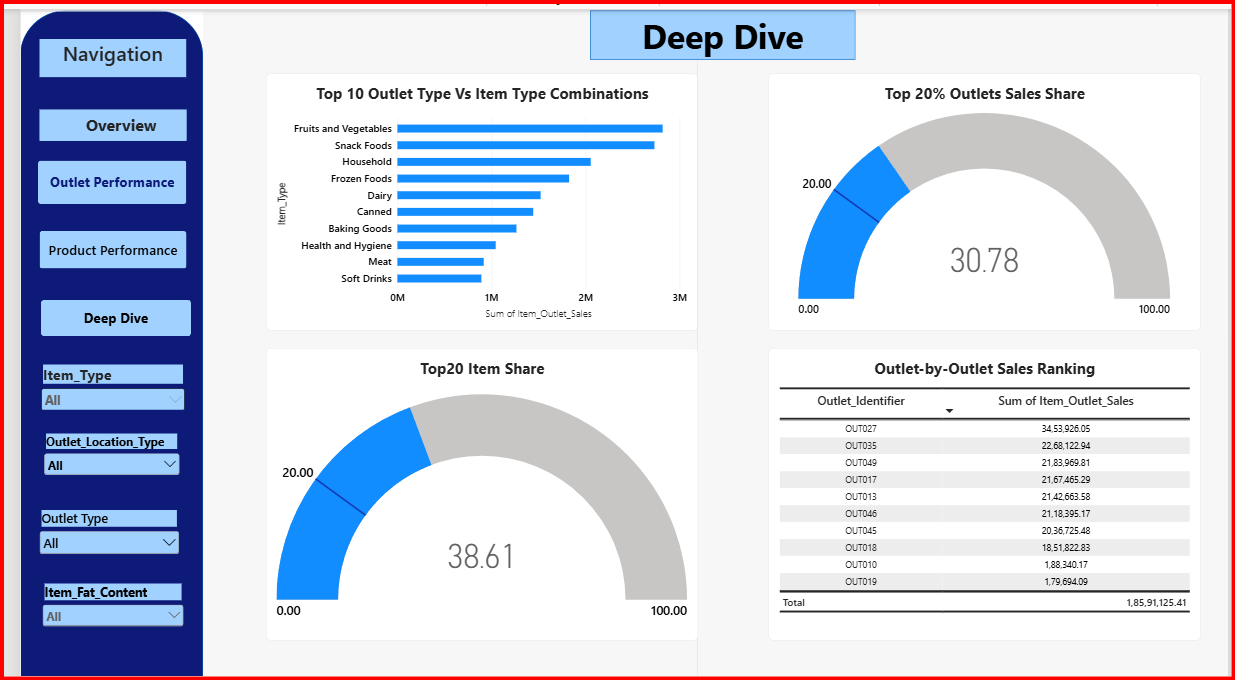

This screenshot's page, from the dashboard's own definition file:
{"tool":"powerbi","page":{"name":"Deep Dive","canvas":[1920,1080],"ordinal":3},"visuals":[{"type":"shape","box":[0,2.4,291.3,1077.5],"z":0,"group":"g1"},{"type":"group","id":"g1","title":"Group 2","box":[0,2.4,1078.4,1077.5],"z":0},{"type":"clusteredBarChart","title":"Top 10 Outlet Type  Vs  Item Type Combinations","fields":{"Category":["Bigmart_sales_data.Item_Type","Bigmart_sales_data.Outlet_Type"],"Y":["Sum(Bigmart_sales_data.Item_Outlet_Sales)"]},"box":[391.3,101.7,687.1,409.3],"z":1,"group":"g1"},{"type":"gauge","title":"Top 20% Outlets Sales Share","fields":{"Y":["Bigmart_sales_data.Top20 Outlet Share"]},"box":[1190.6,102.6,687,409],"z":1},{"type":"gauge","title":"Top20 Item Share","fields":{"Y":["Bigmart_sales_data.Top20 Item Share"]},"box":[391.3,539.2,687.1,465.3],"z":2},{"type":"tableEx","title":"Outlet-by-Outlet Sales Ranking","fields":{"Values":["Bigmart_sales_data.Outlet_Identifier","Sum(Bigmart_sales_data.Item_Outlet_Sales)"]},"box":[1190.6,539.2,687.1,465.3],"z":4},{"type":"shape","box":[906.6,2.4,422.3,78.7],"z":5},{"type":"slicer","fields":{"Values":["Bigmart_sales_data.Outlet_Location_Type"]},"box":[33.4,675.2,224.8,74.1],"z":1000,"group":"g1"},{"type":"slicer","fields":{"Values":["Bigmart_sales_data.Item_Type"]},"box":[28.6,565.5,238.6,71.7],"z":2000,"group":"g1"},{"type":"slicer","fields":{"Values":["Bigmart_sales_data.Item_Fat_Content"]},"box":[31,913.8,234,74.1],"z":3000,"group":"g1"},{"type":"textbox","box":[31,47.7,233.3,60.7],"z":4000,"group":"g1"},{"type":"actionButton","box":[31,159.9,234,50.2],"z":5000,"group":"g1"},{"type":"actionButton","box":[28.6,241,236.3,69.3],"z":6000,"group":"g1"},{"type":"actionButton","box":[31,353.1,234,59.7],"z":7000,"group":"g1"},{"type":"actionButton","box":[33.4,462.9,238.6,57.3],"z":8000,"group":"g1"},{"type":"slicer","fields":{"Values":["Bigmart_sales_data.Outlet_Type"]},"box":[26.2,796.9,231.4,81.1],"z":9000,"group":"g1"}]}

Visuals, with their boxes in screenshot pixels (x1, y1, x2, y2), scaled from the page's 1920x1080 canvas onto the 1235x680 screenshot:
shape: <region>0, 2, 187, 679</region>
"Group 2" group: <region>0, 2, 694, 679</region>
"Top 10 Outlet Type  Vs  Item Type Combinations" clusteredBarChart: <region>252, 64, 694, 322</region>
"Top 20% Outlets Sales Share" gauge: <region>766, 65, 1208, 322</region>
"Top20 Item Share" gauge: <region>252, 339, 694, 632</region>
"Outlet-by-Outlet Sales Ranking" tableEx: <region>766, 339, 1208, 632</region>
shape: <region>583, 2, 855, 51</region>
slicer - Bigmart_sales_data.Outlet_Location_Type: <region>21, 425, 166, 472</region>
slicer - Bigmart_sales_data.Item_Type: <region>18, 356, 172, 401</region>
slicer - Bigmart_sales_data.Item_Fat_Content: <region>20, 575, 170, 622</region>
textbox: <region>20, 30, 170, 68</region>
actionButton: <region>20, 101, 170, 132</region>
actionButton: <region>18, 152, 170, 195</region>
actionButton: <region>20, 222, 170, 260</region>
actionButton: <region>21, 291, 175, 328</region>
slicer - Bigmart_sales_data.Outlet_Type: <region>17, 502, 166, 553</region>
